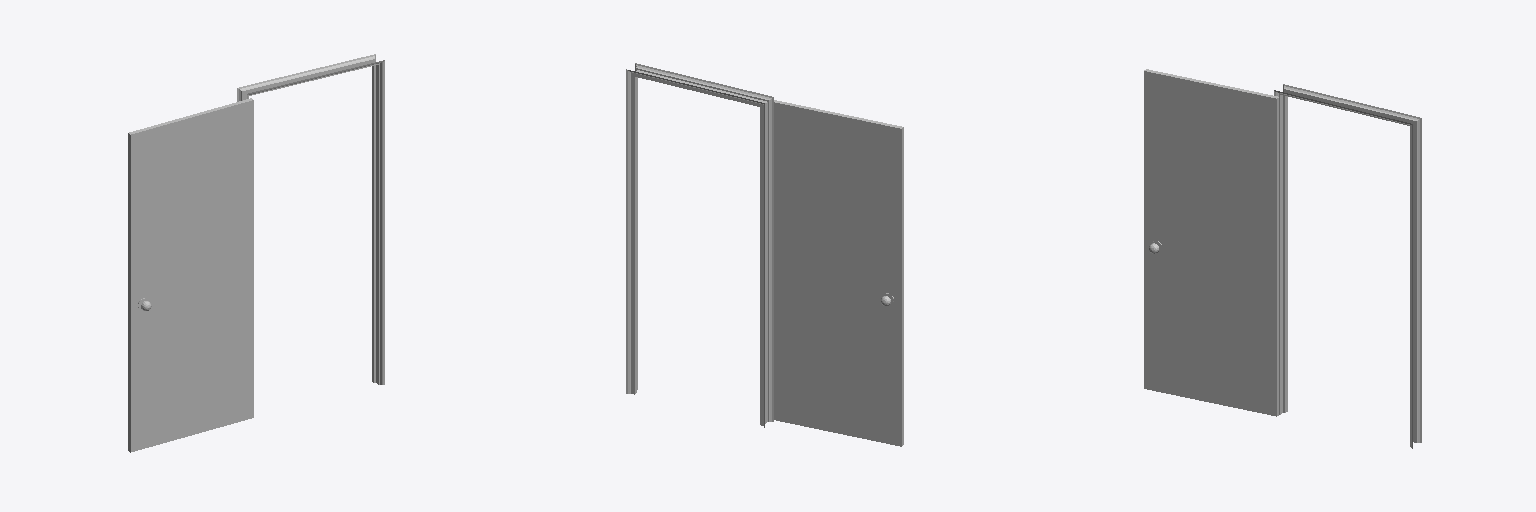
The model's file is mdl_door_01_openwide.obj.
The picture shows the model from 3 angles: view 1: azimuth 30°, elevation 25°; view 2: azimuth 150°, elevation 25°; view 3: azimuth 330°, elevation 25°; orthographic projection.
Visible parts, largest first — view 1: Object003; view 2: Object003; view 3: Object003.
Boxes of the visible parts, box(x1,y1,x2,y2) form: Object003: box(128, 54, 384, 452); Object003: box(626, 63, 903, 446); Object003: box(1144, 69, 1421, 448).
Size of the model in its own units: 177 by 210 by 24.76.